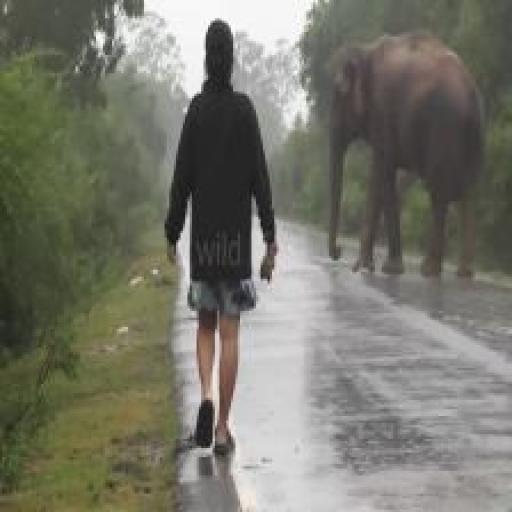Elephant: (315, 23, 494, 338)
